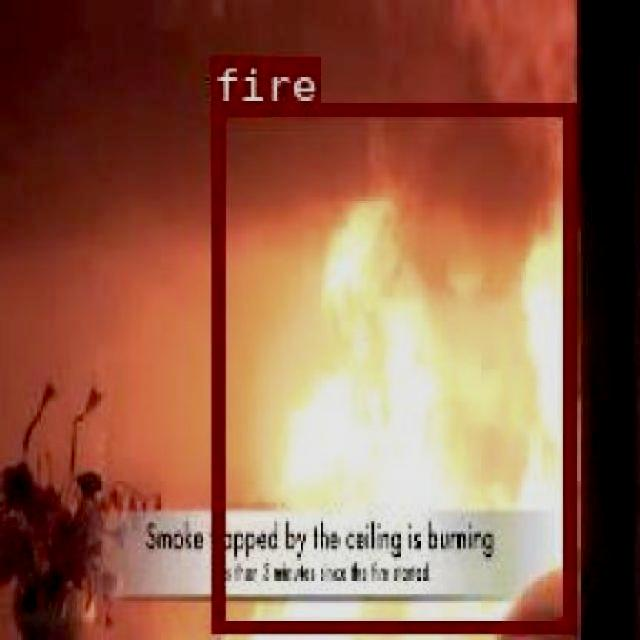fire: (210, 102, 572, 630)
